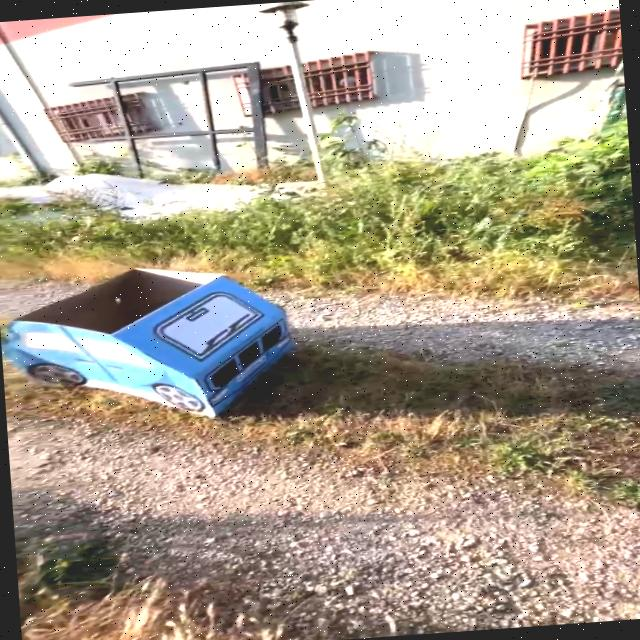blue_car: (0, 235, 362, 435)
